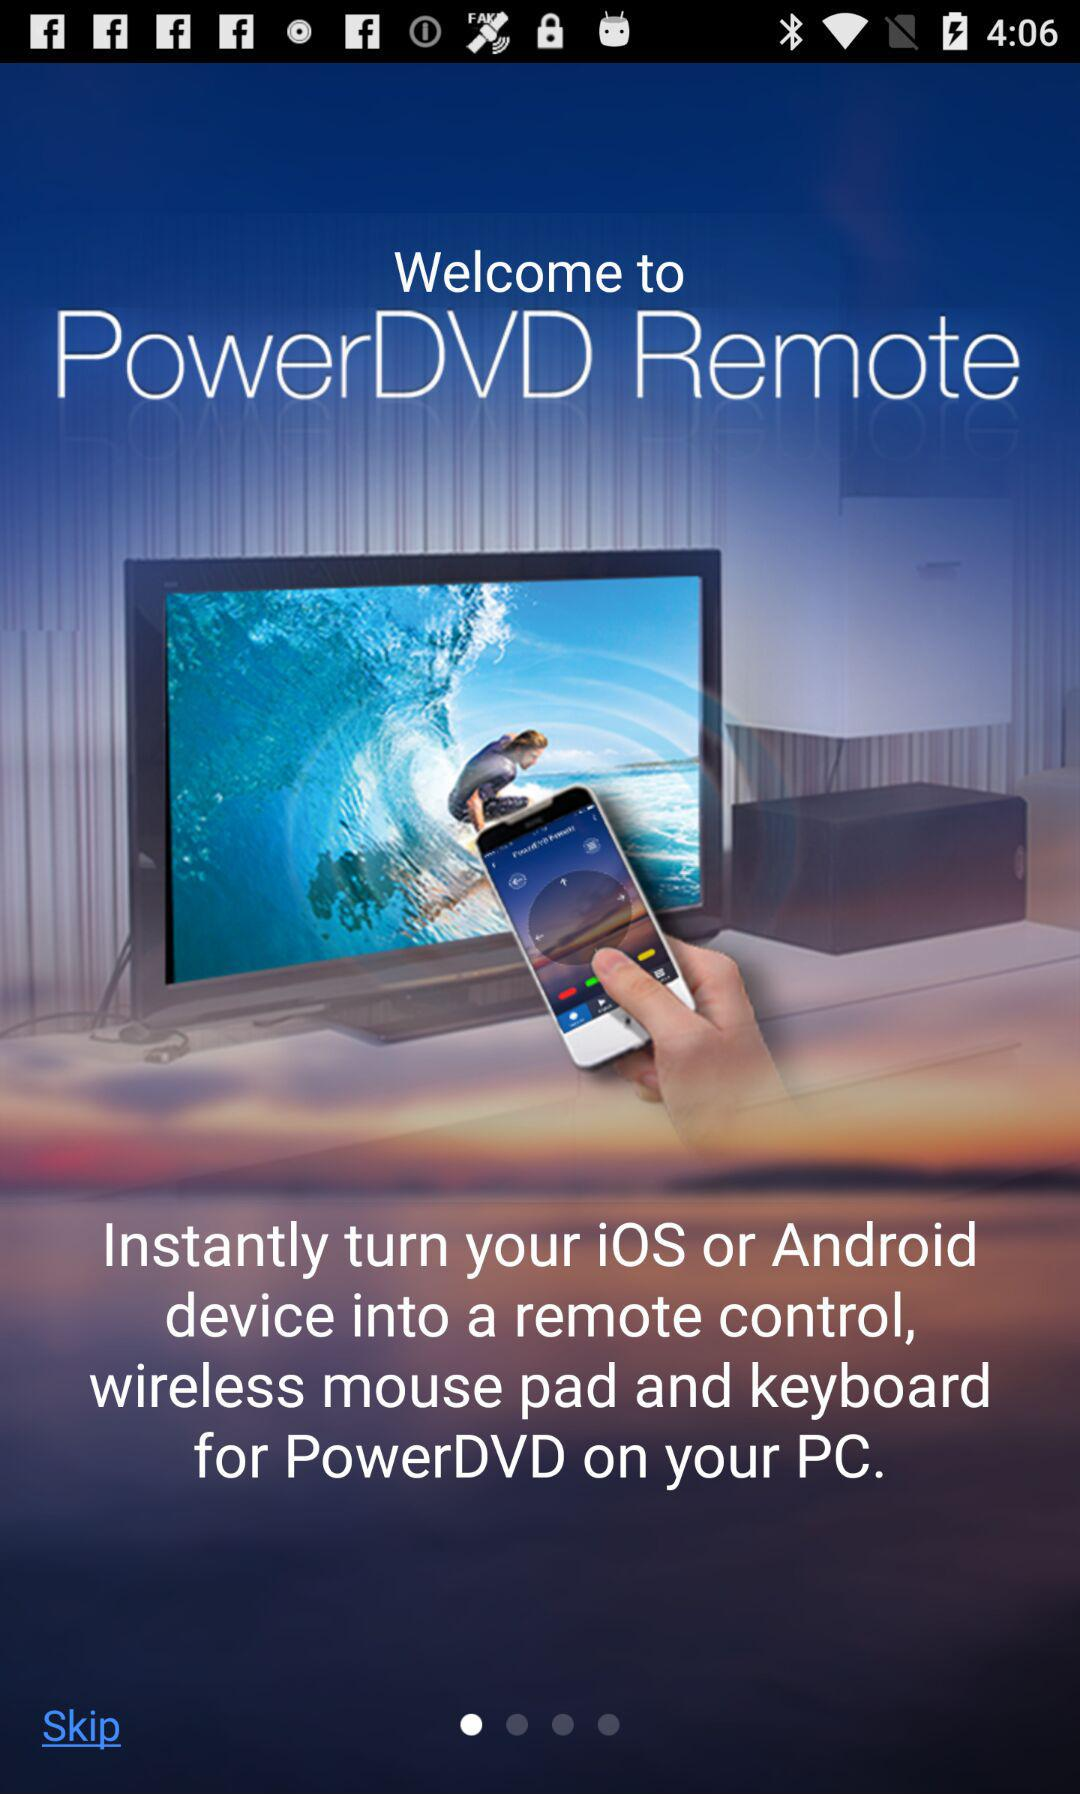BackgroundImage: (1, 64, 1080, 1794)
PageIndicator: (459, 1712, 623, 1738)
Text: (88, 1219, 990, 1492), (56, 308, 1022, 402), (393, 249, 685, 296), (42, 1708, 123, 1750)
UpperTaskBar: (1, 1, 1080, 64)
